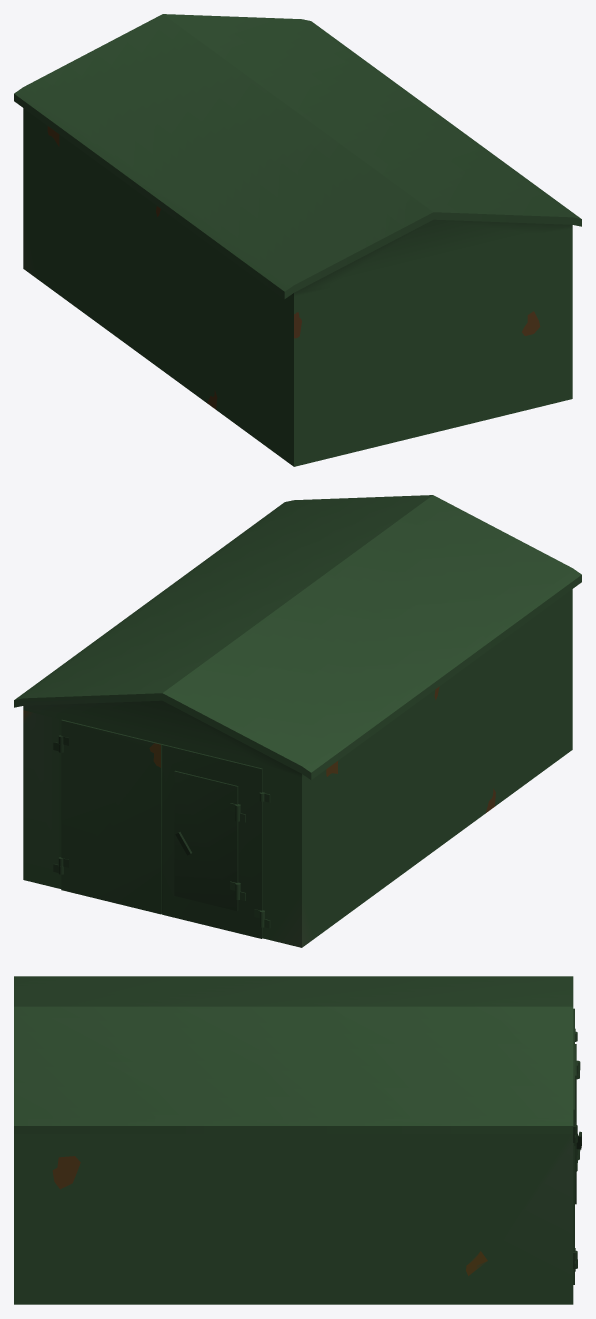
Rendered from the garage is green.fbx.
3 views of the same model, one above another, from view 1: azimuth 30°, elevation 25°; view 2: azimuth 150°, elevation 25°; view 3: azimuth 270°, elevation 25° (orthographic). The views are drawn at different scales.
Visible parts, largest first — view 1: Cylinder.001; view 2: Cylinder.001; view 3: Cylinder.001.
Part boxes in pixels (x1,y1,x2,y2): Cylinder.001: (14,14,581,466); Cylinder.001: (14,495,581,947); Cylinder.001: (14,976,581,1304).
Size of the model in its own units: 1529 by 1085 by 2450.
